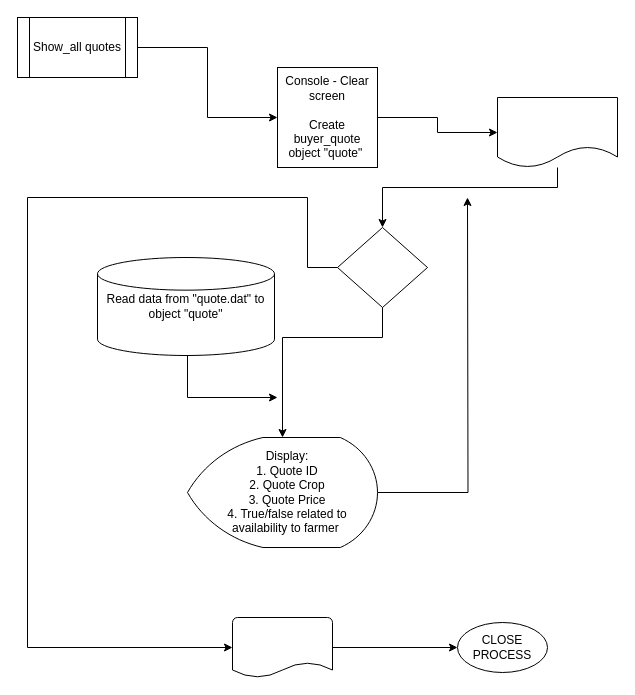
Some shapes in this 635 by 695 pixel diagram are drawn without their labels. Here are the shapes that lost their labels. From the top down, the centre of each, then its label:
(557,132): Open "quote.dat"
(382,267): If end of file
(282,647): Close "quote.dat"
